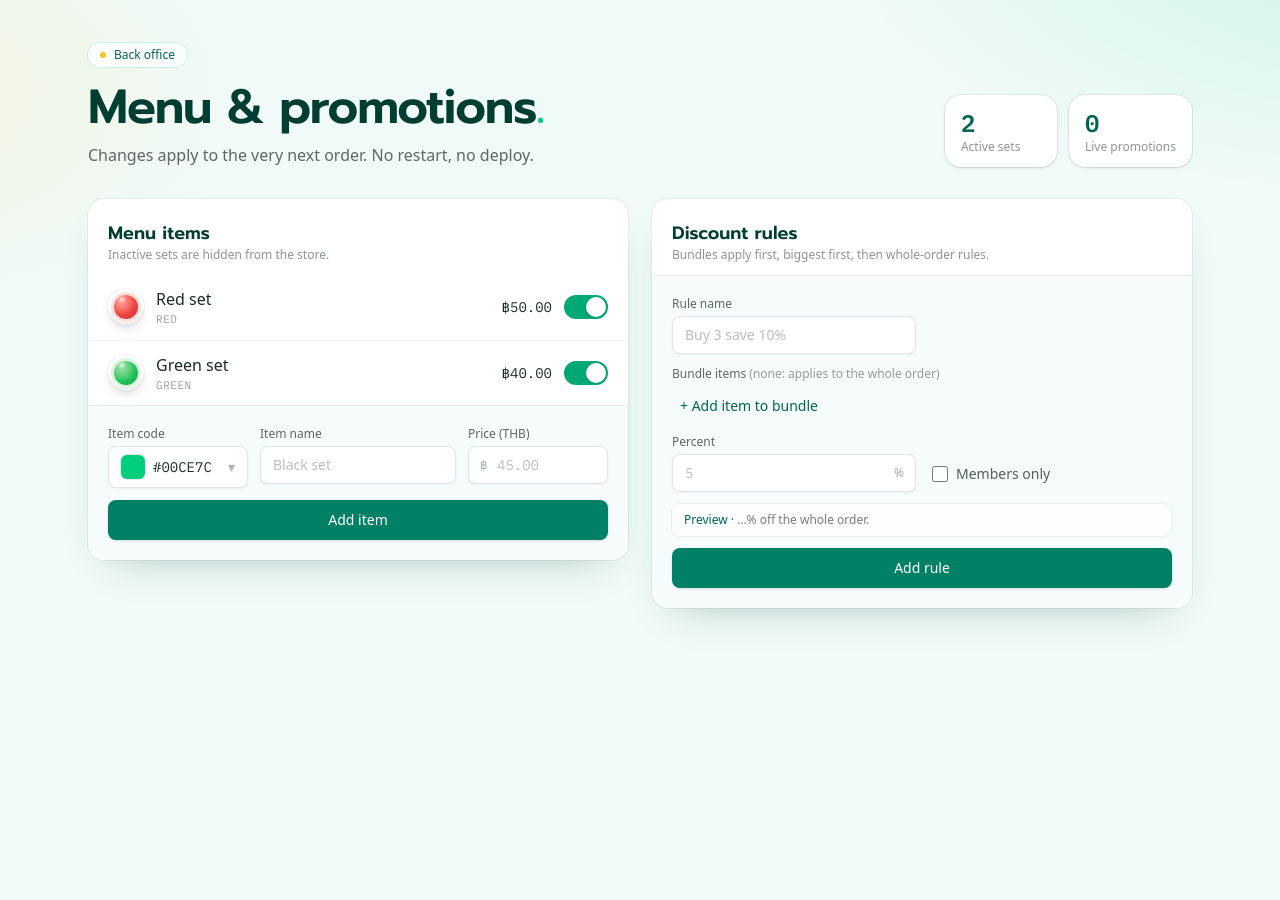
Test: Admin › shows the server error when adding fails
The width and height of the screenshot is (1280, 900).
Expected: the text "RED" is shown, top-left (156, 312), bottom-right (178, 326)
Type "Another green" into the field labelled "Item name" at (358, 465), box top-left (260, 446), bottom-right (456, 484)
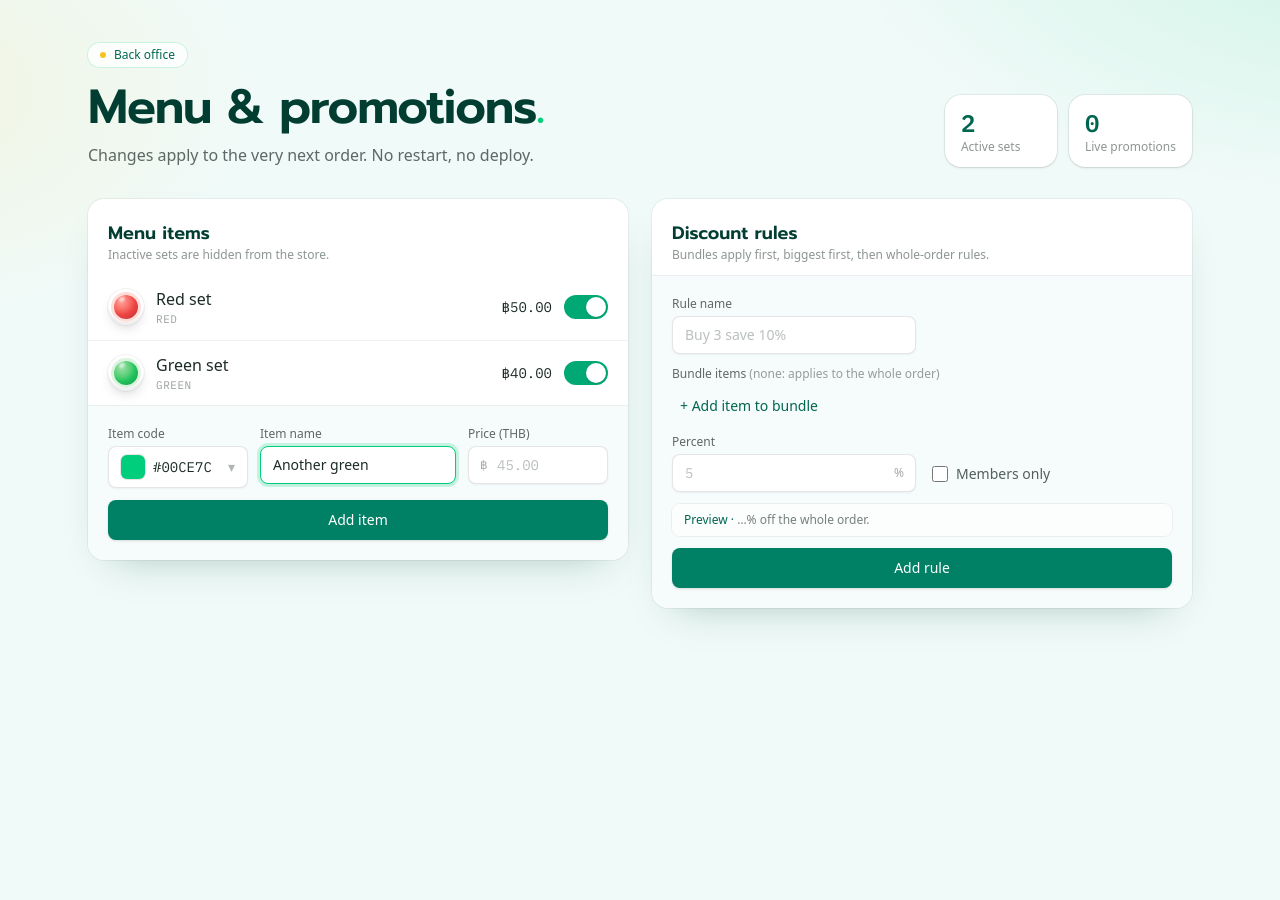
Type "10" into the field labelled "Price (THB)" at (538, 465), box top-left (468, 446), bottom-right (608, 484)
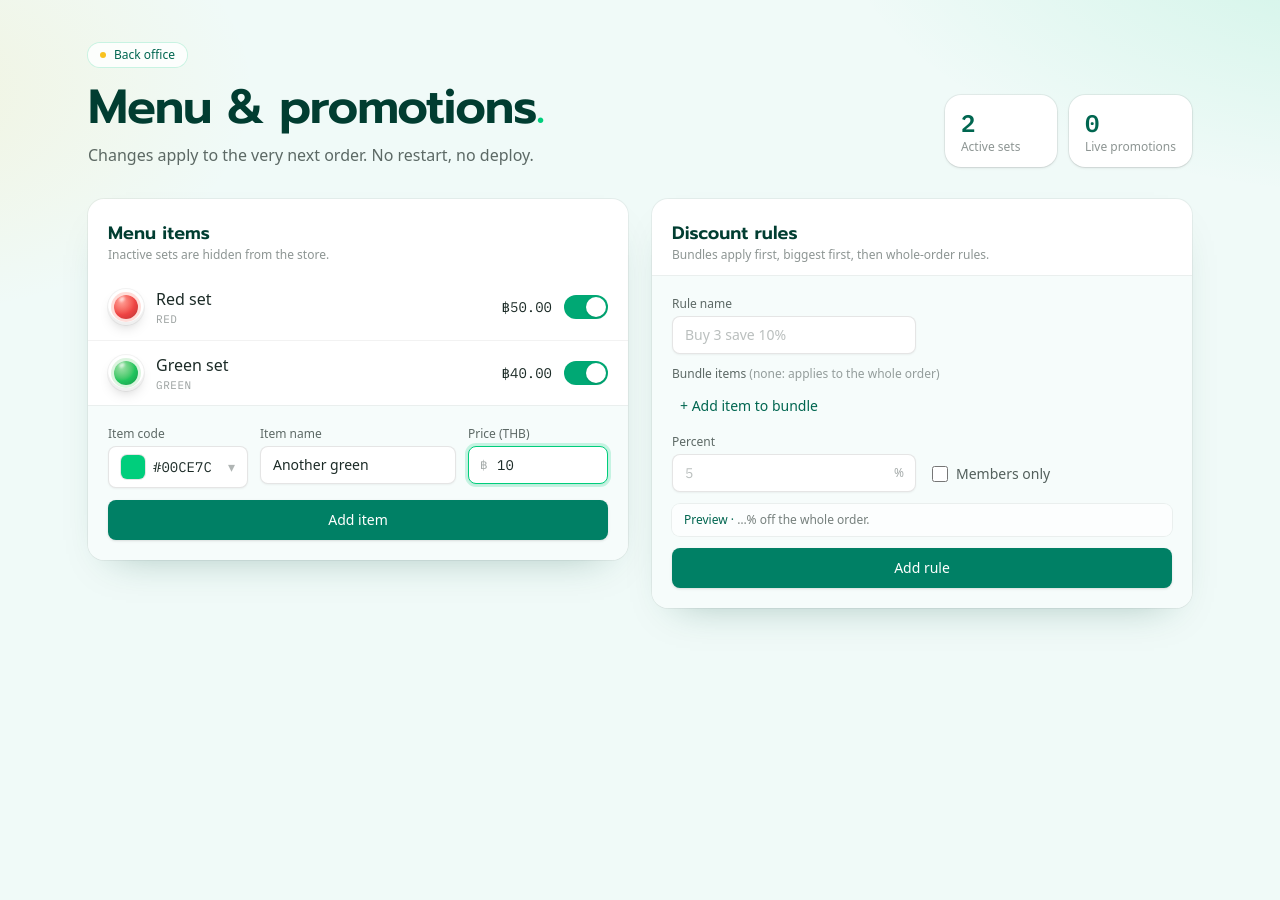
Click the button "Add item" at (358, 520), box top-left (108, 500), bottom-right (608, 540)
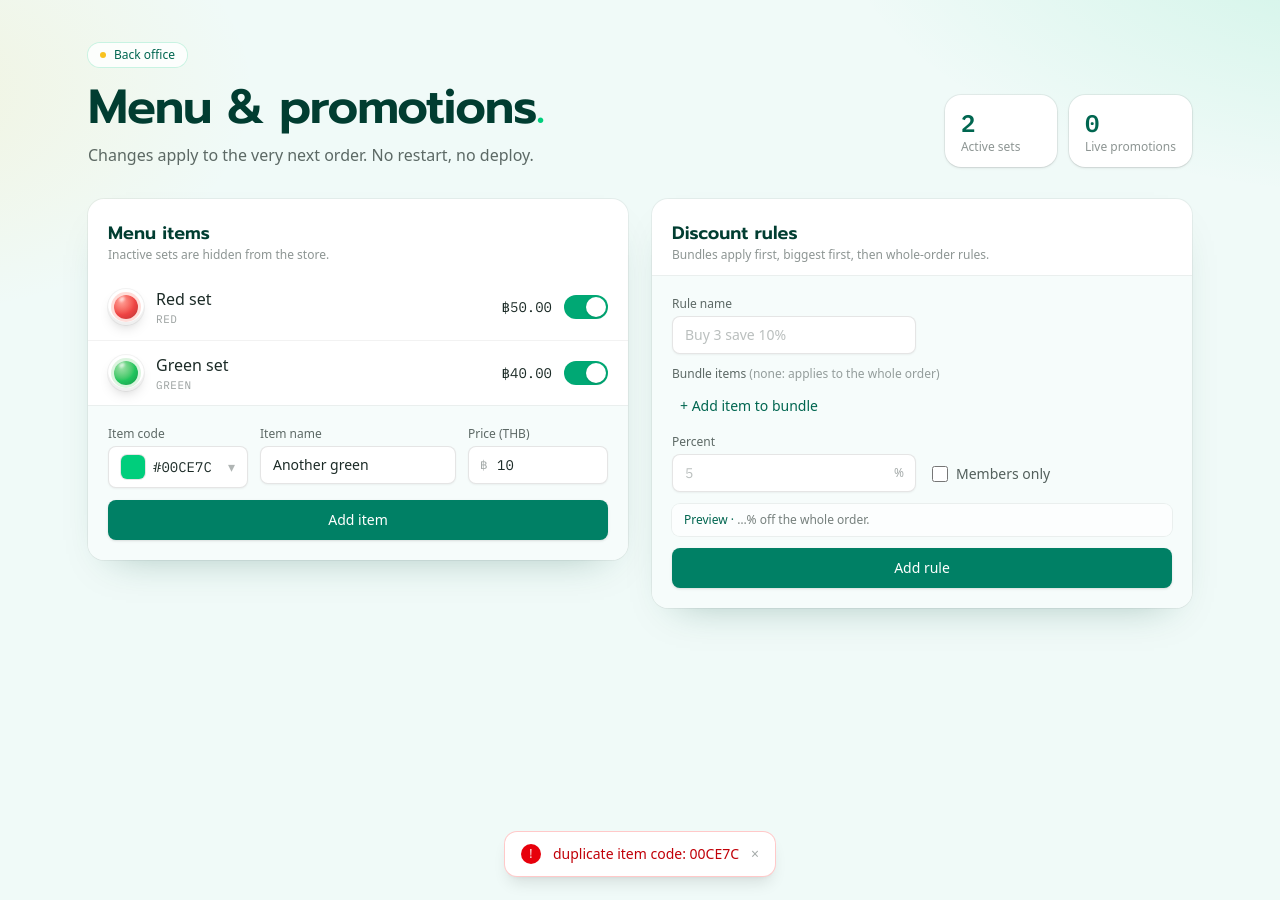
Expected: the message shows "duplicate item code: 00CE7C", top-left (553, 844), bottom-right (739, 863)
